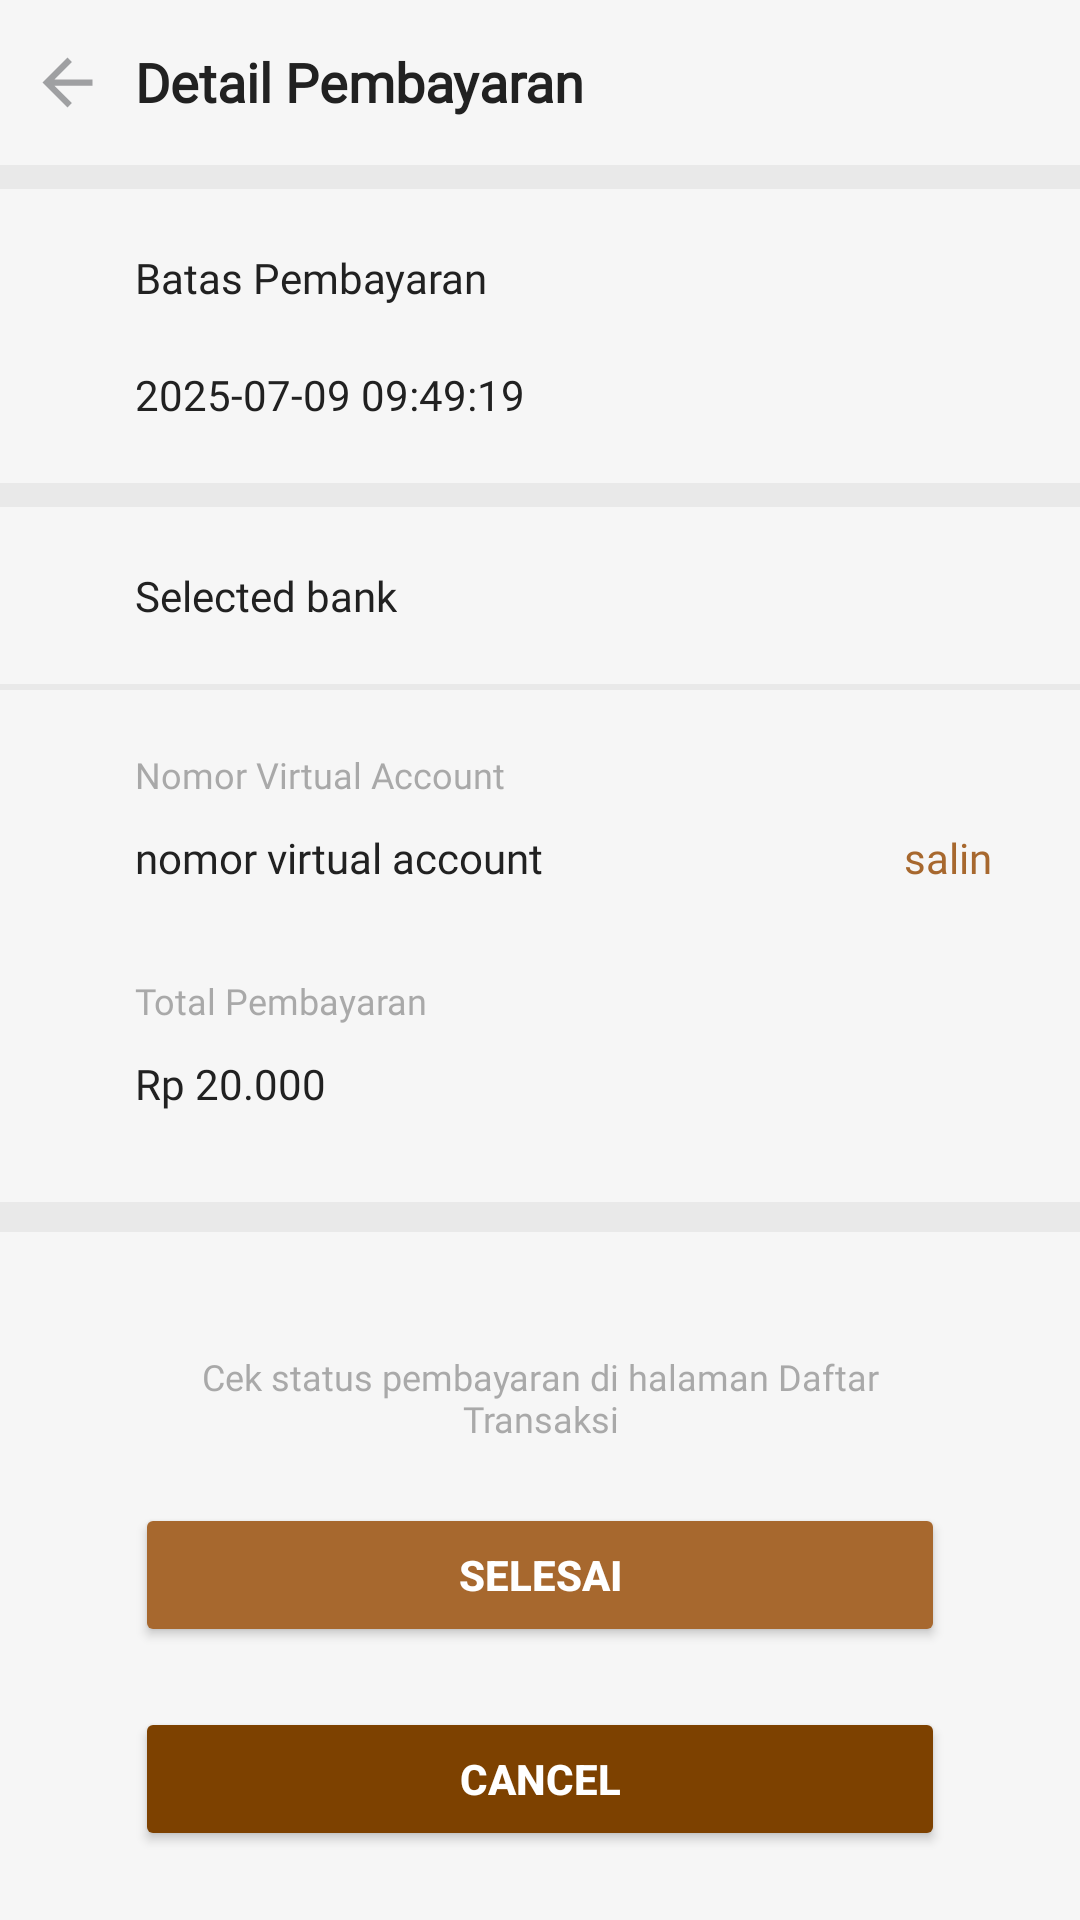

Icons on this 1080*1920 Android screen, each with the point to tap as [x,y]:
back: [68,82]
